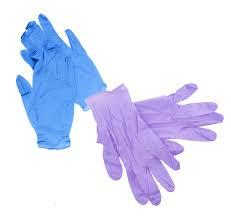Glove: (86, 85, 179, 204), (21, 14, 105, 110), (135, 84, 222, 154), (16, 59, 74, 148), (135, 84, 222, 140)
